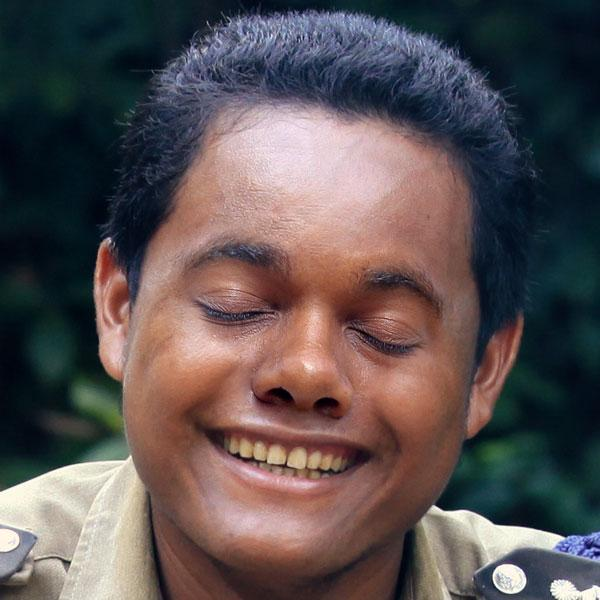Eyes: (183, 273, 286, 336), (342, 301, 429, 366)
